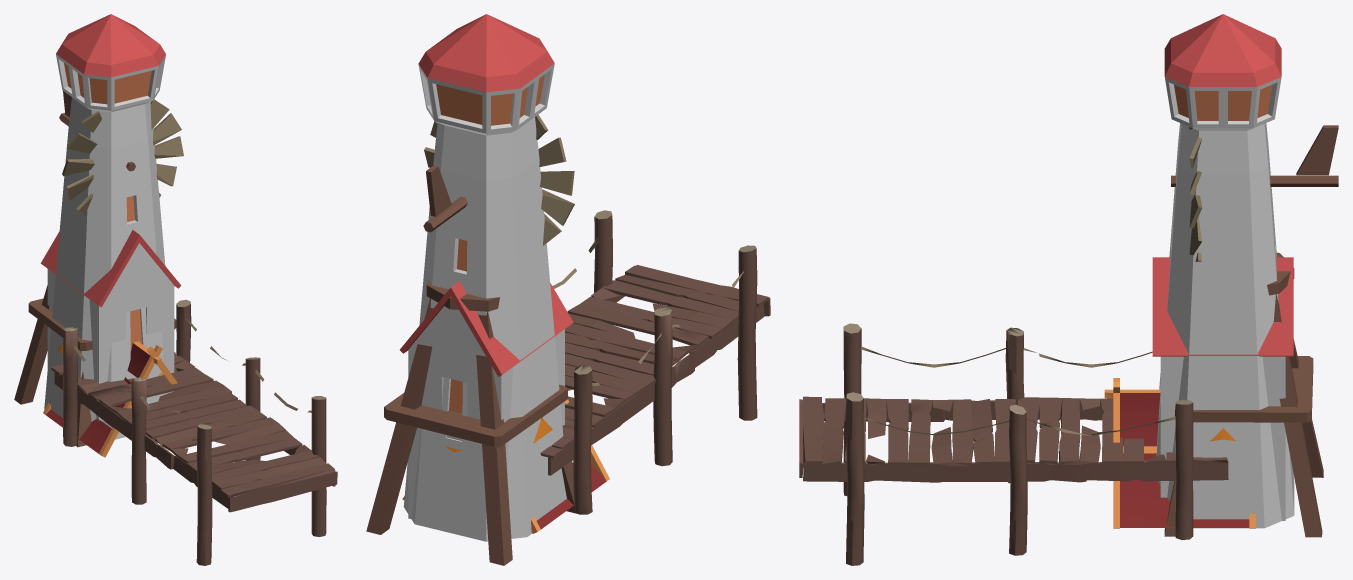
Rendered from island-decor.glb.
3 views of the same model, side by side, from view 1: azimuth 30°, elevation 25°; view 2: azimuth 150°, elevation 25°; view 3: azimuth 270°, elevation 25° (orthographic). The views are drawn at different scales.
Visible parts, largest first — view 1: dock, lighthouse, house, lighthouseRoof, windTurbineBlades, windTurbine, tent, lighthouseWindows, houseRoof; view 2: lighthouse, dock, windTurbine, lighthouseRoof, house, lighthouseWindows, houseRoof, windTurbineBlades, tent; view 3: lighthouse, dock, windTurbine, lighthouseRoof, tent, houseRoof, house, lighthouseWindows, windTurbineBlades.
Part boxes in pixels (box(x1,y1,x2,y2)): dock: box(51, 299, 337, 565); lighthouse: box(44, 54, 168, 439); house: box(47, 243, 174, 421); lighthouseRoof: box(56, 14, 165, 77); windTurbineBlades: box(62, 99, 183, 215); windTurbine: box(14, 91, 177, 447); tent: box(43, 341, 177, 457); lighthouseWindows: box(64, 63, 151, 351); houseRoof: box(40, 230, 181, 307); lighthouse: box(403, 63, 566, 541); dock: box(540, 210, 770, 514); windTurbine: box(366, 165, 576, 565); lighthouseRoof: box(418, 14, 554, 92); house: box(408, 306, 564, 519); lighthouseWindows: box(436, 74, 544, 413); houseRoof: box(400, 281, 573, 376); windTurbineBlades: box(424, 114, 574, 245); tent: box(402, 399, 609, 533); lighthouse: box(1156, 77, 1294, 528); dock: box(799, 323, 1228, 565); windTurbine: box(1164, 125, 1338, 537); lighthouseRoof: box(1164, 14, 1281, 86); tent: box(1104, 378, 1255, 528); houseRoof: box(1152, 257, 1293, 356); house: box(1160, 356, 1285, 520); lighthouseWindows: box(1174, 84, 1272, 120); windTurbineBlades: box(1189, 127, 1202, 261).
Size of the model in its own units: 0.0598 by 0.1853 by 0.1761.
